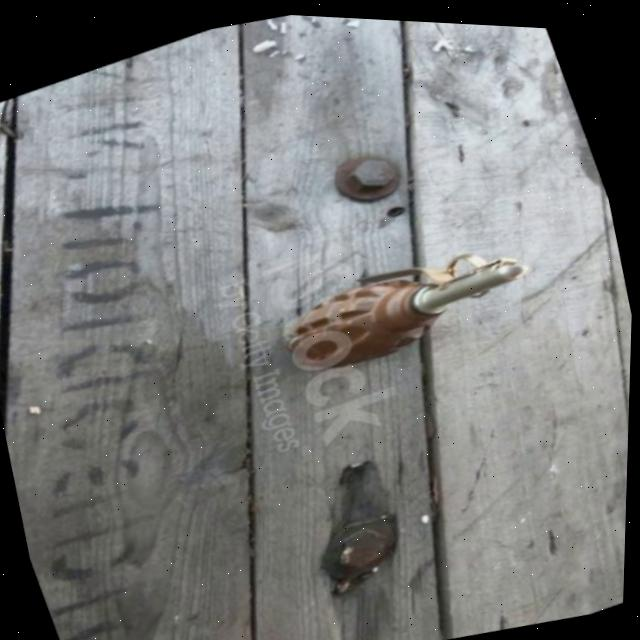grenade: (259, 204, 557, 401)
